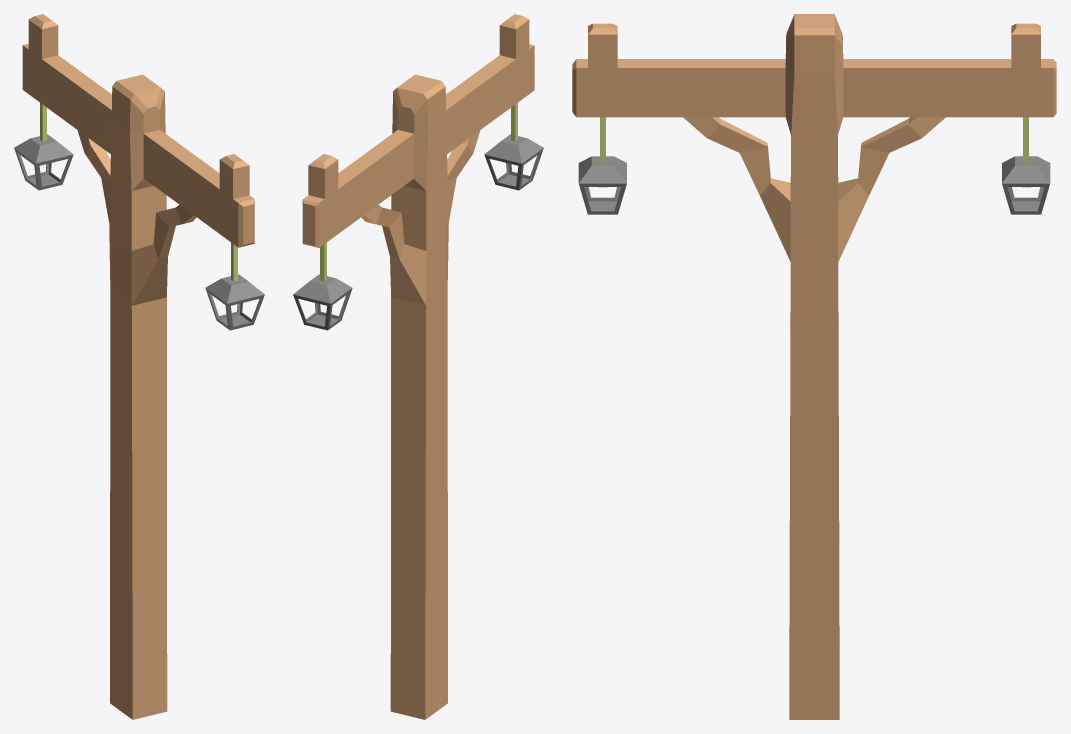
Rendered from streetlamp01.fbx.
3 views of the same model, side by side, from view 1: azimuth 30°, elevation 25°; view 2: azimuth 150°, elevation 25°; view 3: azimuth 270°, elevation 25° (orthographic). The views are drawn at different scales.
Visible parts, largest first — view 1: streetlamp01; view 2: streetlamp01; view 3: streetlamp01.
Boxes of the visible parts, box(x1,y1,x2,y2) form: streetlamp01: box(14, 14, 264, 719); streetlamp01: box(293, 14, 543, 719); streetlamp01: box(572, 14, 1056, 719).
Size of the model in its own units: 4.54 by 71.49 by 45.5.
